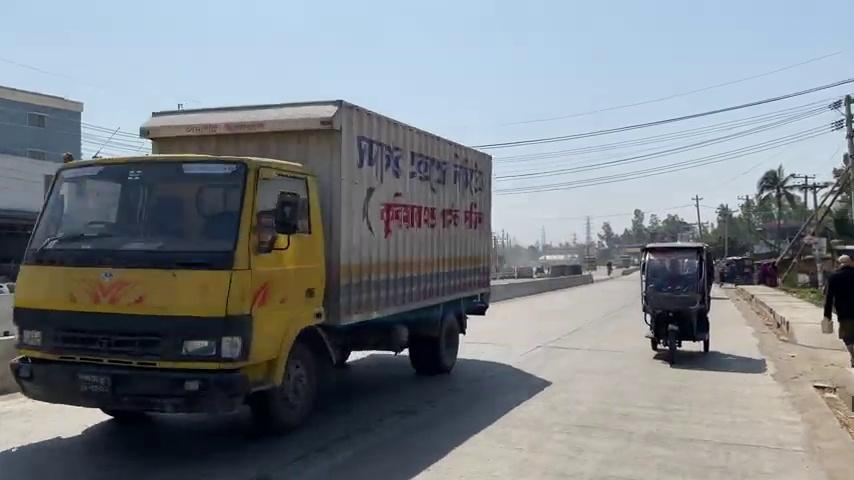Fence: (823, 253, 853, 367)
Rickshaw: (9, 98, 494, 433), (631, 236, 730, 376)
